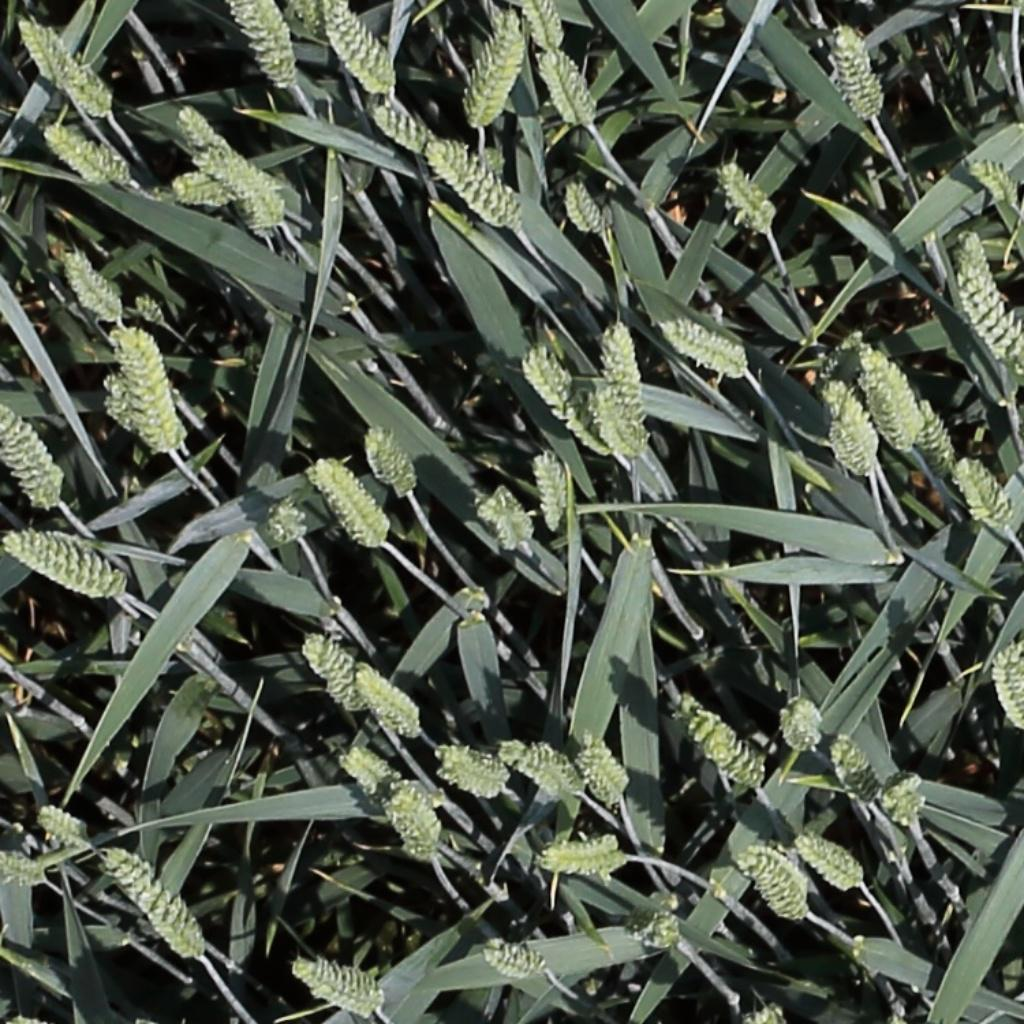0-0: (180, 119, 290, 231), (102, 845, 206, 957), (950, 219, 1022, 372), (524, 345, 614, 460), (104, 364, 200, 466), (0, 528, 127, 602), (674, 694, 767, 789), (428, 137, 521, 225), (291, 948, 396, 1024), (117, 325, 177, 456), (309, 457, 387, 551), (324, 1, 397, 96), (0, 400, 64, 506), (468, 13, 524, 129), (861, 349, 922, 453), (230, 0, 299, 91), (192, 155, 270, 231), (827, 20, 883, 122), (595, 314, 644, 428), (44, 42, 118, 115), (60, 247, 126, 326), (436, 740, 516, 803), (304, 630, 363, 714), (354, 667, 424, 737), (46, 121, 126, 182), (716, 157, 779, 234), (959, 454, 1018, 535), (740, 851, 809, 920), (592, 379, 649, 461), (826, 386, 879, 473), (663, 319, 749, 372), (539, 46, 591, 131), (577, 730, 629, 815), (387, 783, 442, 862), (367, 420, 419, 501), (916, 394, 962, 484), (832, 733, 884, 812), (498, 742, 572, 797), (13, 13, 66, 88), (812, 323, 871, 390), (795, 836, 868, 890), (479, 485, 536, 553), (538, 831, 626, 871), (621, 896, 686, 949), (371, 99, 435, 151), (35, 797, 94, 848), (565, 173, 611, 238), (993, 640, 1024, 734), (168, 163, 229, 210), (535, 445, 567, 533), (968, 155, 1021, 206), (876, 776, 928, 827), (780, 699, 821, 759), (525, 0, 565, 57), (484, 943, 550, 976), (341, 750, 389, 795), (0, 858, 57, 893), (131, 288, 169, 329), (297, 0, 329, 46)
